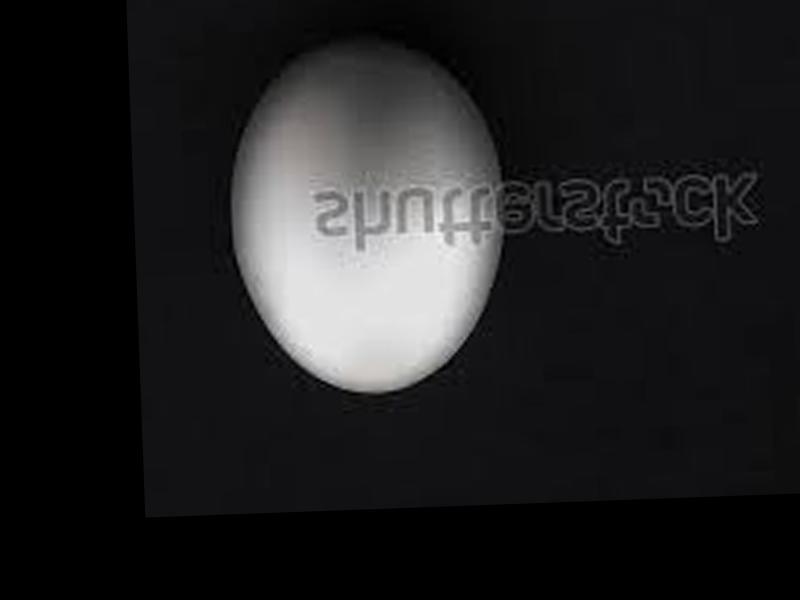Eggs: (223, 36, 503, 402)
